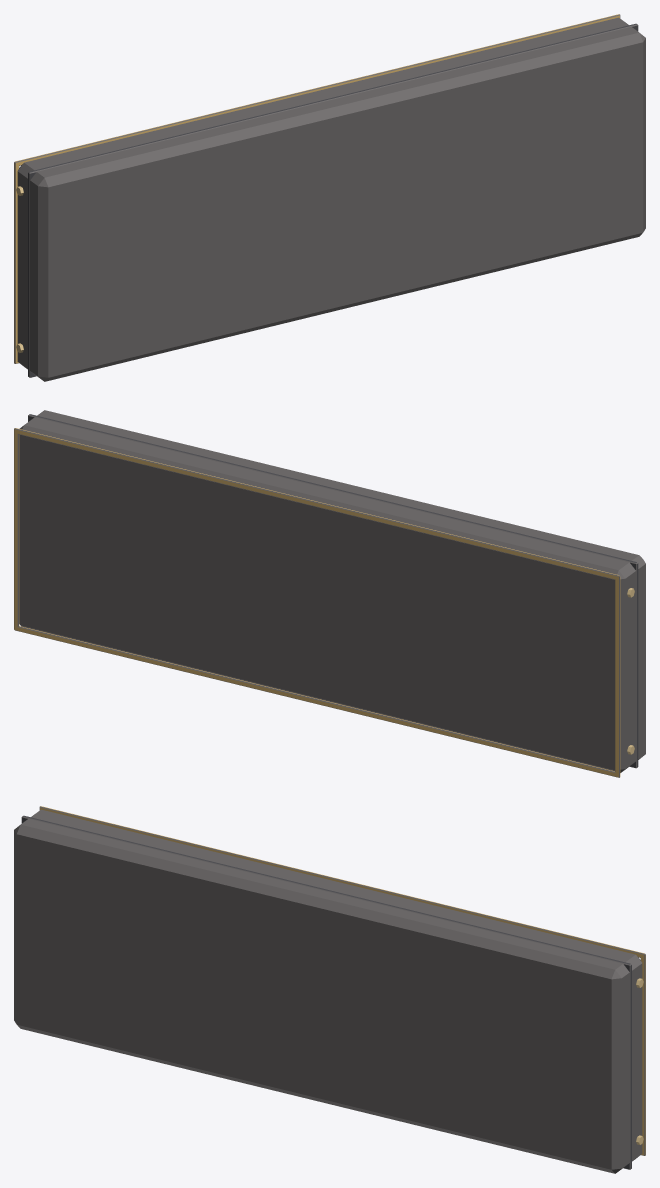
The model's file is Housing_3x1.fbx.
3 renders of one model, top to bottom at view 1: azimuth 30°, elevation 25°; view 2: azimuth 150°, elevation 25°; view 3: azimuth 330°, elevation 25°, orthographic.
Visible parts, largest first — view 1: Housing_3x1; view 2: Housing_3x1; view 3: Housing_3x1.
Part boxes in pixels (x1,y1,x2,y2): Housing_3x1: (14, 14, 645, 381); Housing_3x1: (14, 410, 645, 777); Housing_3x1: (14, 806, 645, 1173).
Size of the model in its own units: 3.27 by 1.05 by 0.27.
